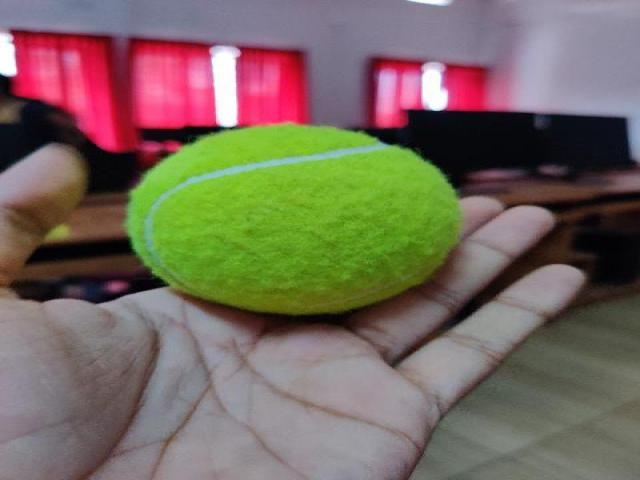tennis-ball: (126, 125, 462, 314)
